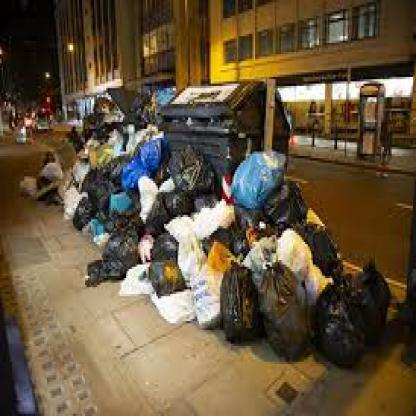Garbage: (204, 157, 348, 363), (180, 170, 300, 341), (82, 235, 205, 326), (30, 152, 166, 226), (86, 116, 157, 233), (316, 264, 390, 360)
